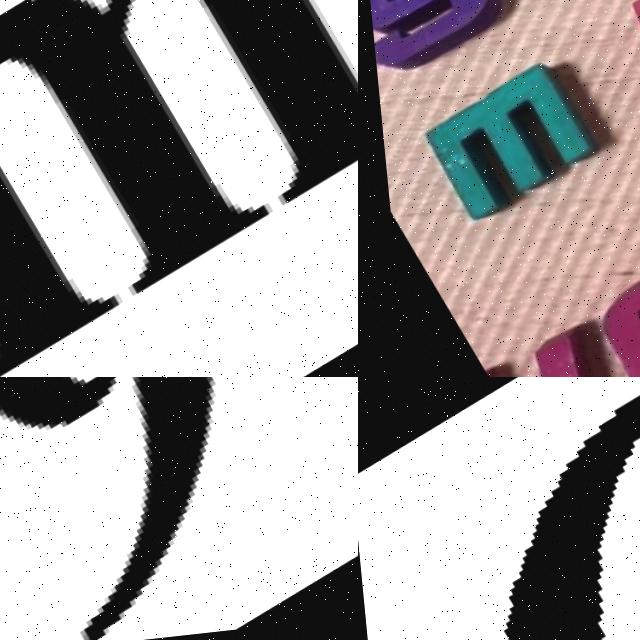9: (0, 377, 345, 640)
C: (503, 401, 640, 640)
M: (0, 0, 358, 377), (406, 58, 602, 235)
O: (578, 238, 640, 377)
S: (361, 0, 511, 78)
